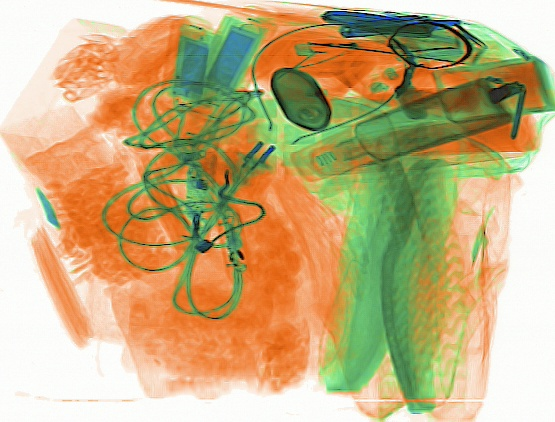lighter: (293, 36, 386, 58)
